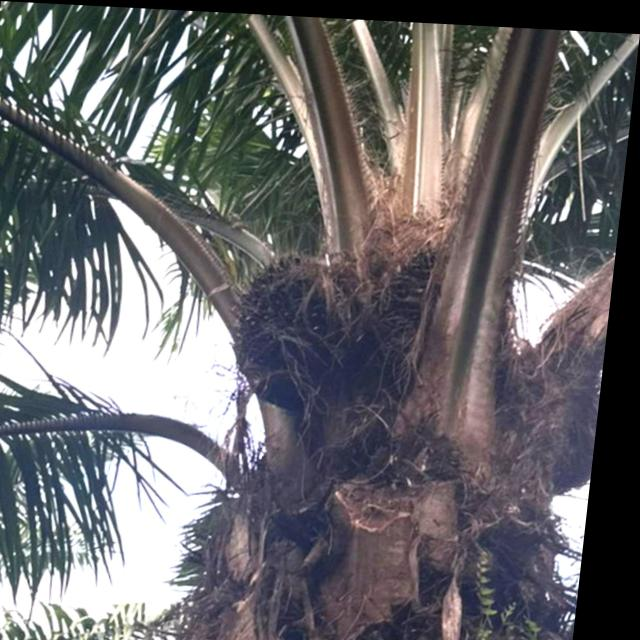unripe: (229, 242, 375, 401)
